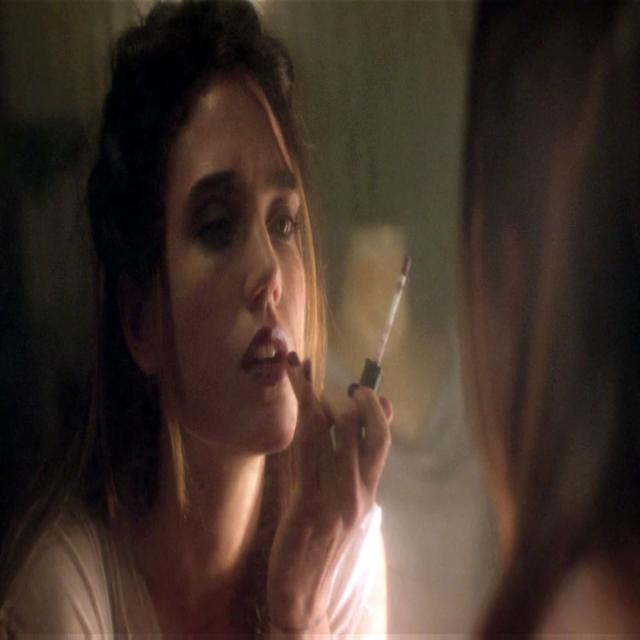cigarette: (374, 251, 415, 364)
